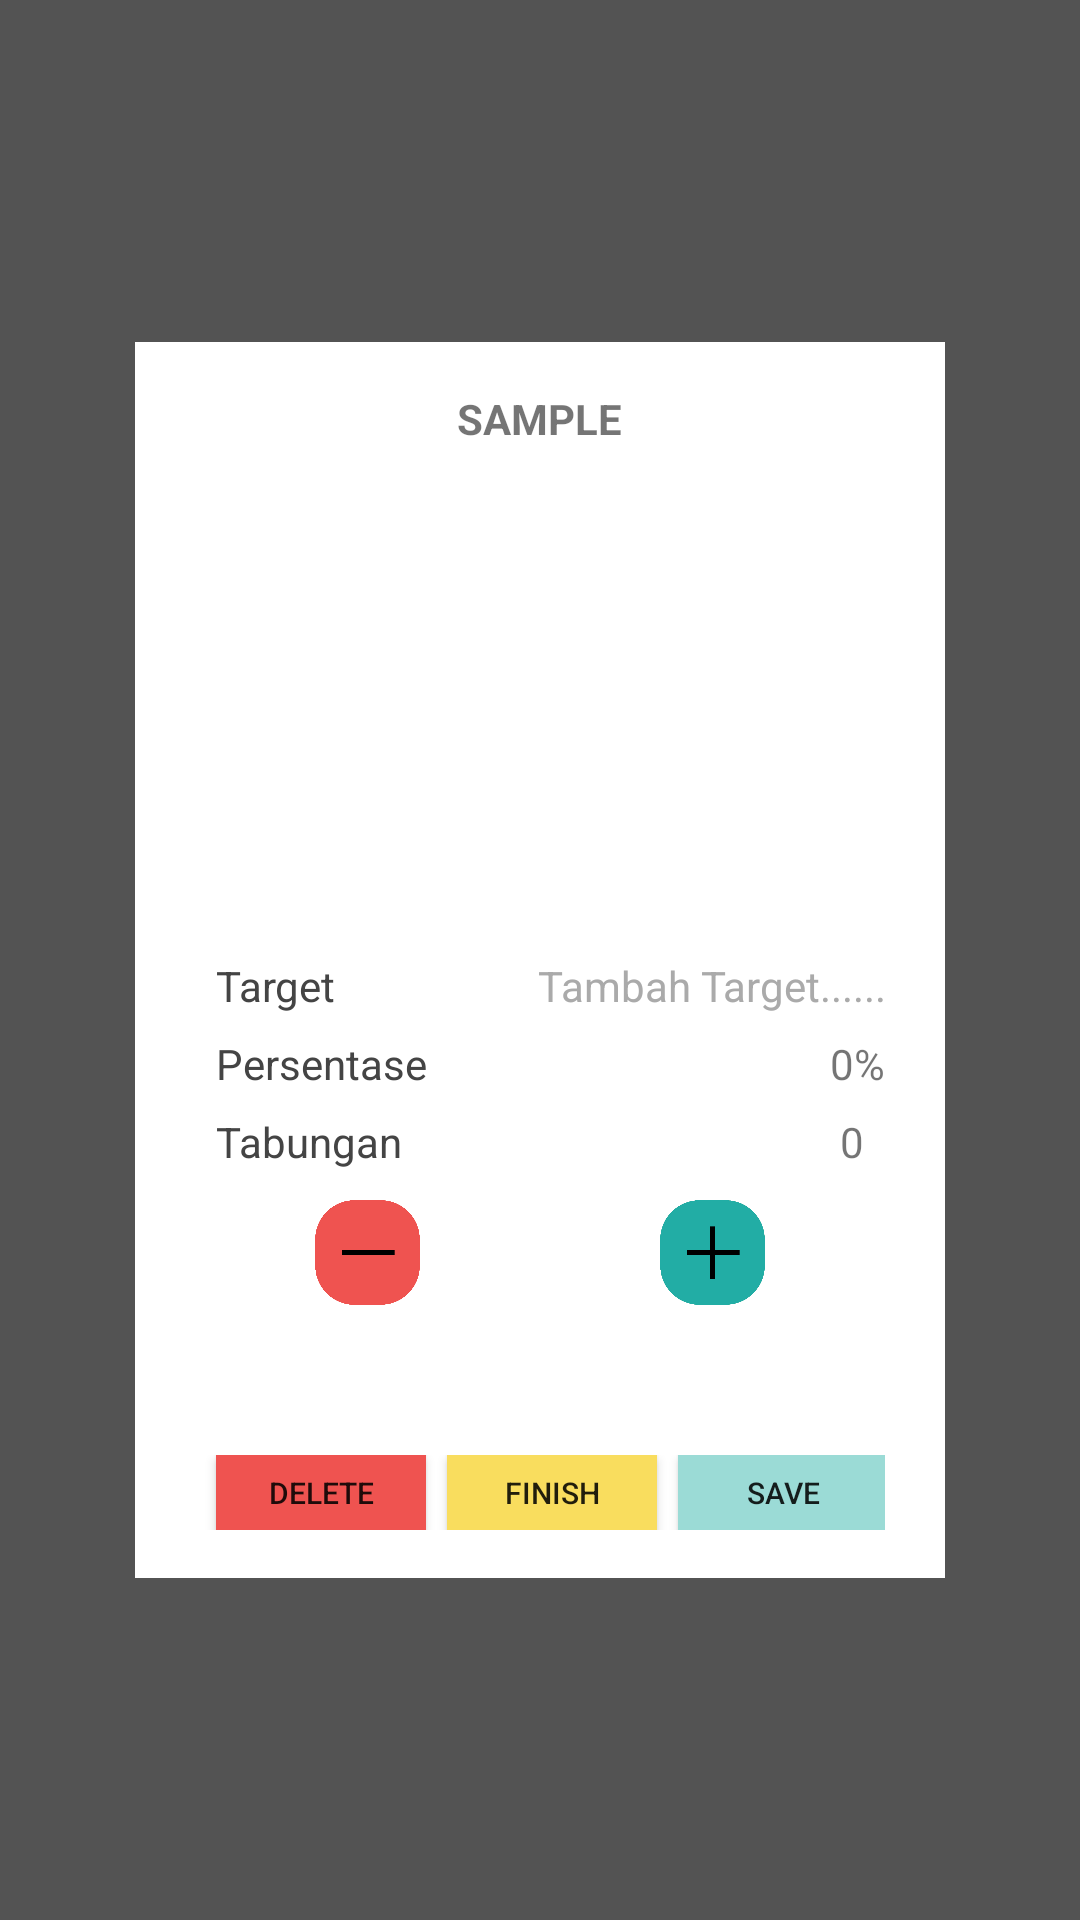

Screen size 1080x1920. Icon name, then its box in pixels as (x1, y1, x2, y2):
wishlist kurang: (315, 1200, 420, 1305)
wishlisth tambah: (660, 1200, 765, 1305)
